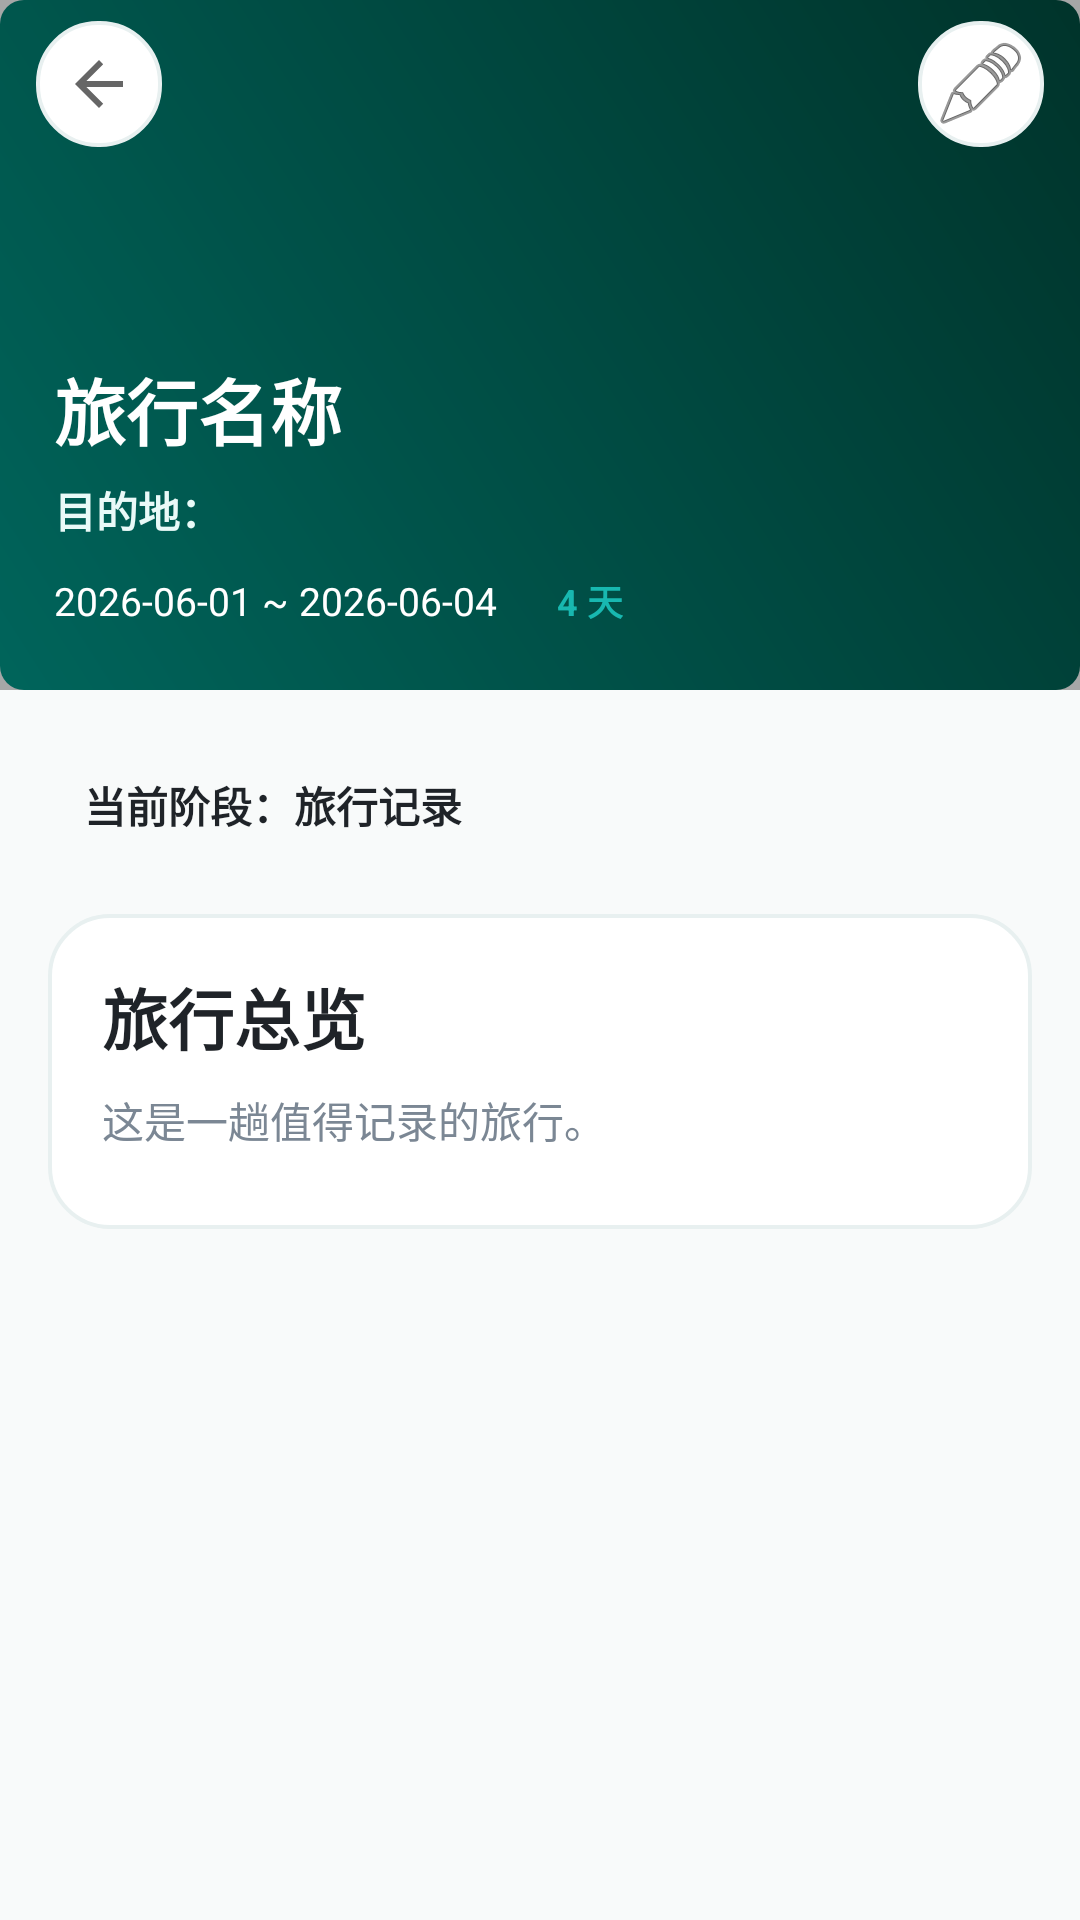

Icon click points for this 1080 x 1920 phone screenshot, format point (x, y):
编辑旅行: point (981, 84)
返回: point (99, 84)
